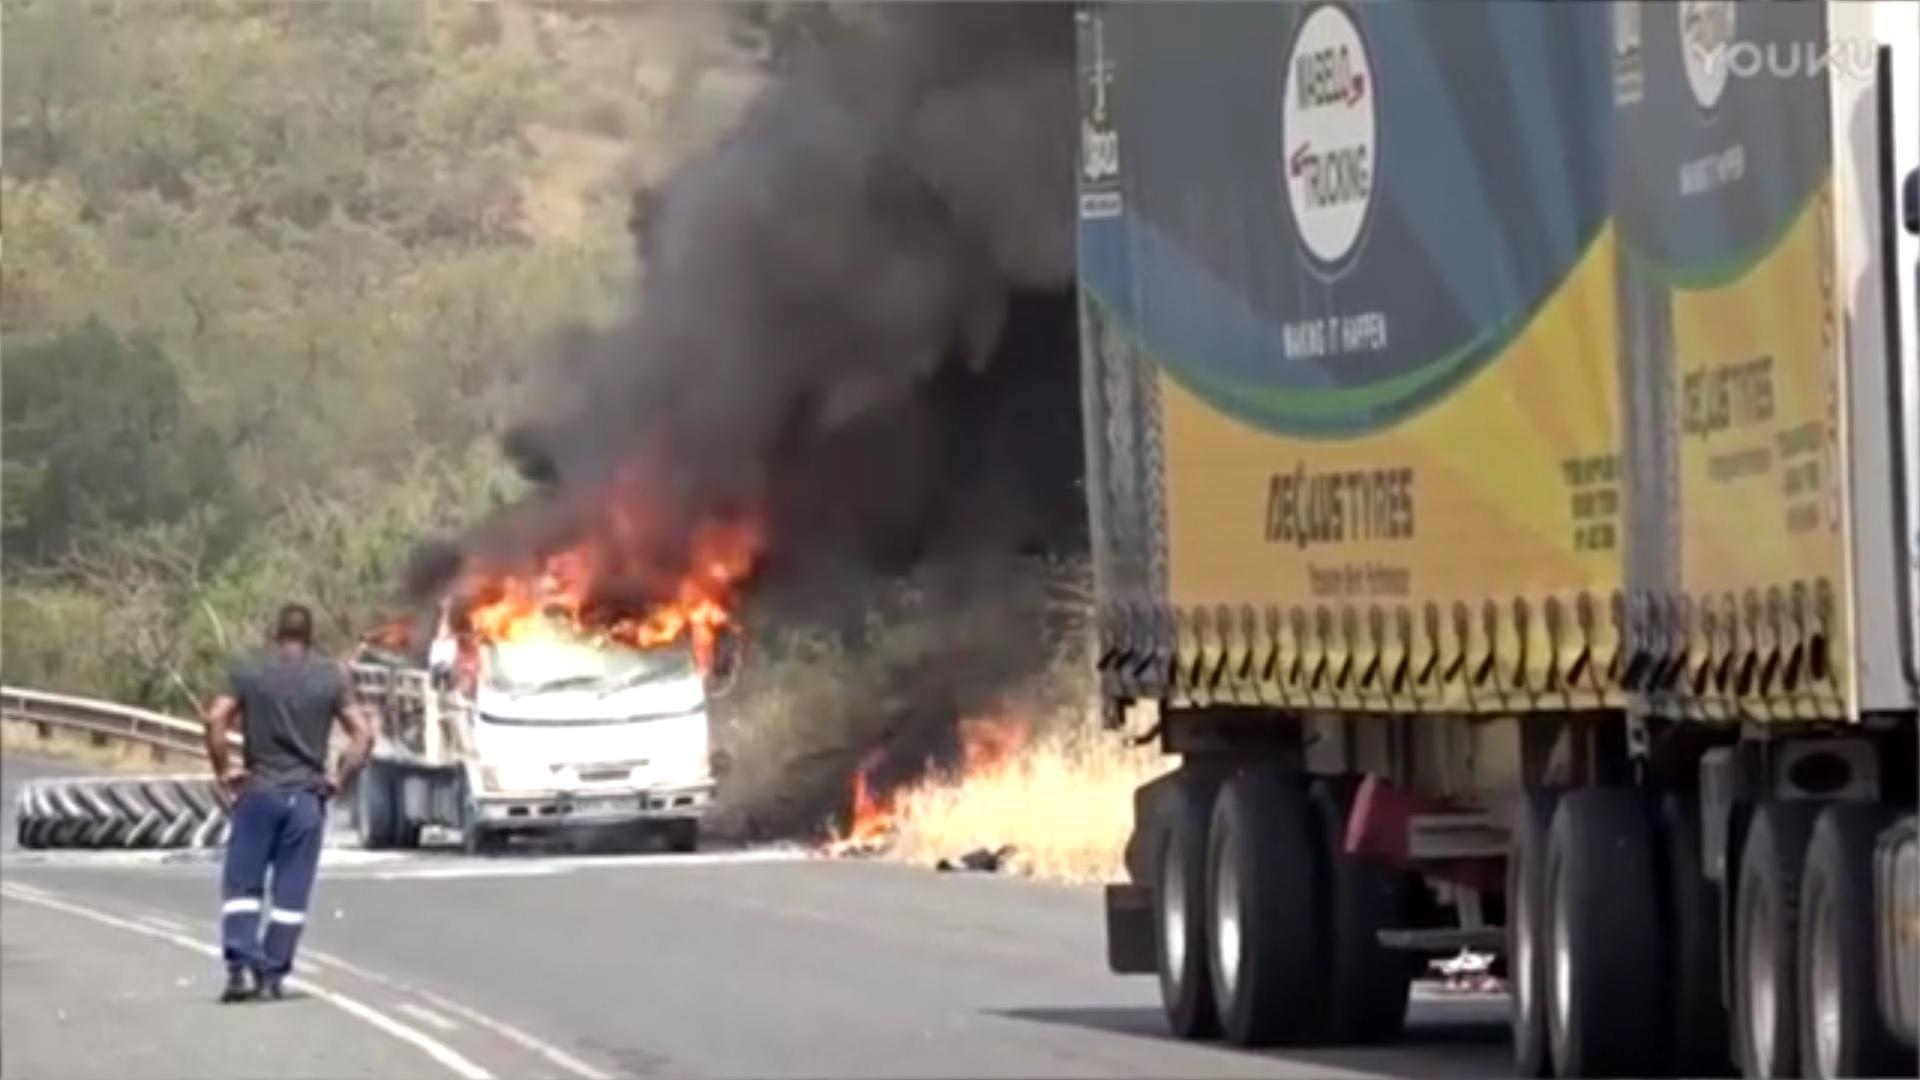fire: (816, 716, 1185, 881), (444, 495, 760, 670)
